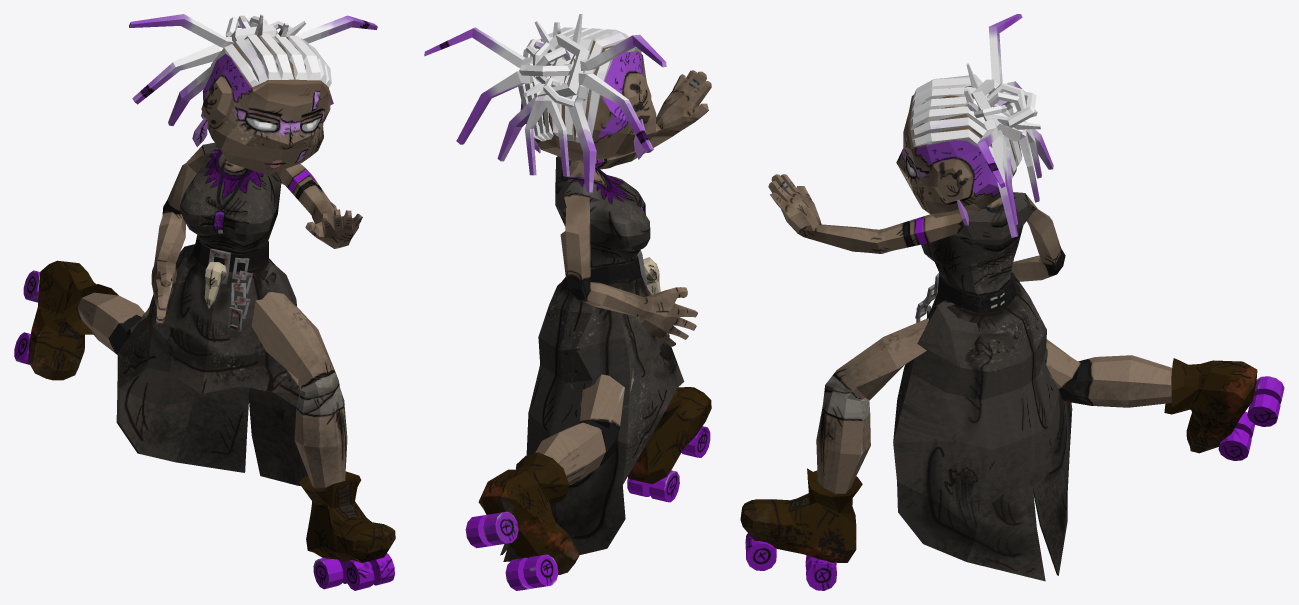
The model's file is bruja_000019.obj.
3 renders of one model, left to right at view 1: azimuth 30°, elevation 25°; view 2: azimuth 150°, elevation 25°; view 3: azimuth 270°, elevation 25°, orthographic. The views are drawn at different scales.
Visible parts, largest first — view 1: Bruja_Plane.001; view 2: Bruja_Plane.001; view 3: Bruja_Plane.001.
Boxes of the visible parts, x1,y1,x2,y2 form: Bruja_Plane.001: [14, 14, 395, 590]; Bruja_Plane.001: [424, 14, 711, 590]; Bruja_Plane.001: [740, 14, 1284, 590].
Bounding box in the file's own units: 7.51 × 15.22 × 14.36.
